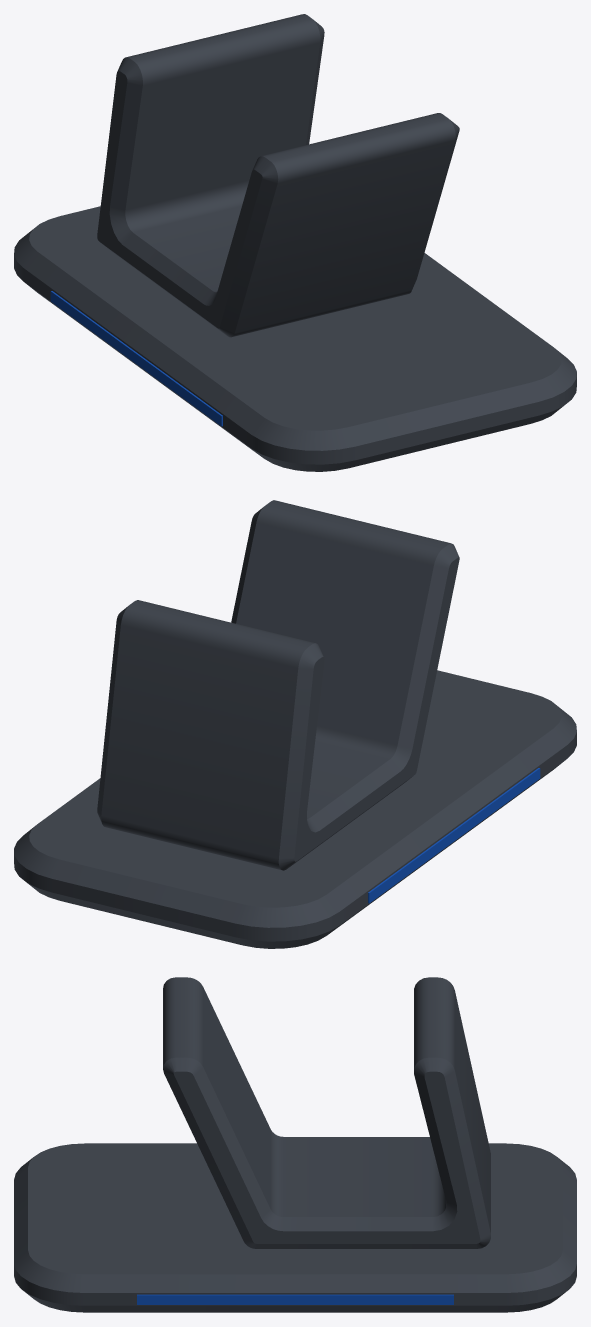
Rendered from ScannerStand.obj.
3 views of the same model, one above another, from view 1: azimuth 30°, elevation 25°; view 2: azimuth 150°, elevation 25°; view 3: azimuth 270°, elevation 25° (orthographic). The views are drawn at different scales.
Parts seen in each view (by area): view 1: ScannerStand; view 2: ScannerStand; view 3: ScannerStand.
Boxes of the visible parts, box(x1,y1,x2,y2) form: ScannerStand: box(14, 14, 576, 471); ScannerStand: box(14, 500, 576, 948); ScannerStand: box(14, 977, 576, 1312).
Size of the model in its own units: 0.097 by 0.072 by 0.16.
